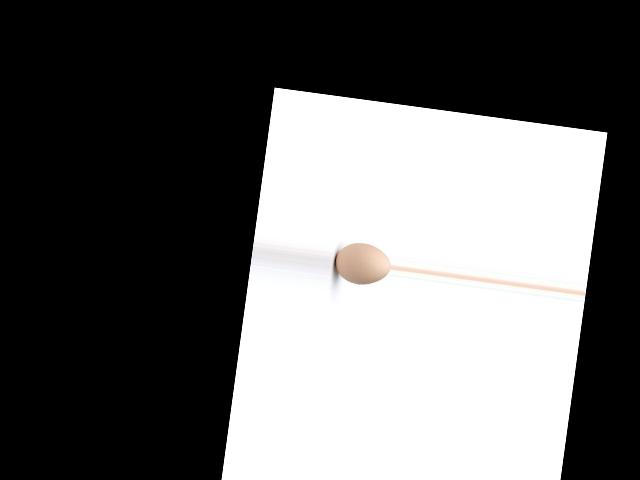egg: (332, 239, 392, 287)
